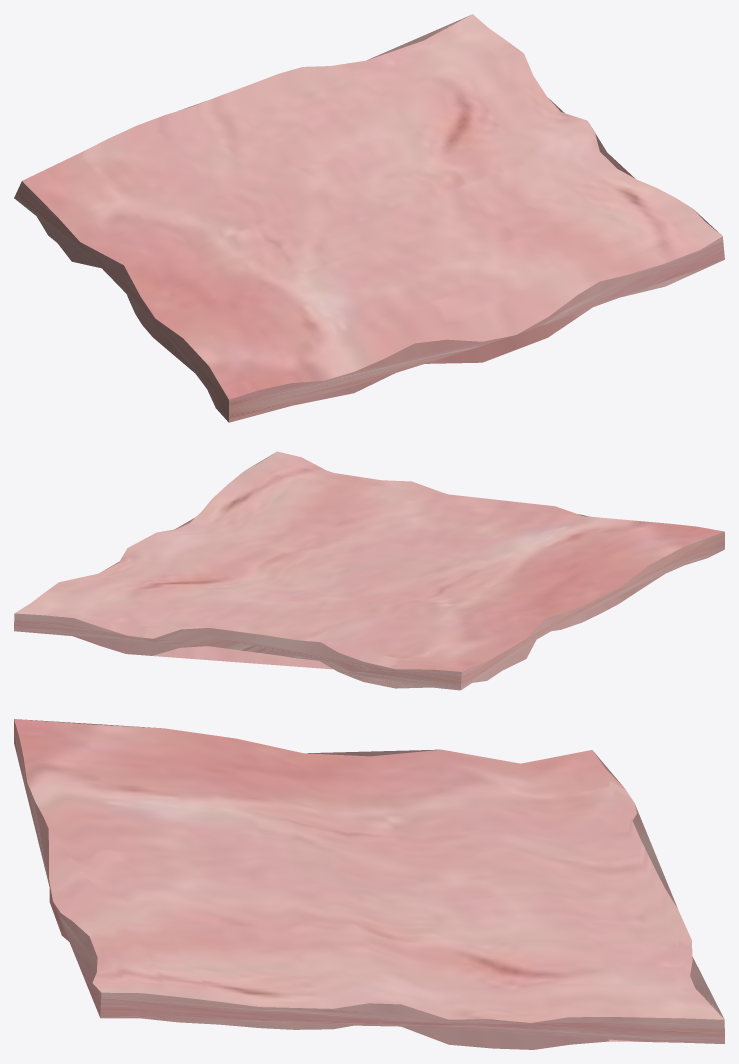
File: ham_los.glb
The picture shows the model from 3 angles, top to bottom: view 1: azimuth 30°, elevation 25°; view 2: azimuth 150°, elevation 25°; view 3: azimuth 270°, elevation 25°; orthographic projection. The views are drawn at different scales.
Parts seen in each view (by area): view 1: Cube; view 2: Cube; view 3: Cube.
Boxes of the visible parts, x1=… form: Cube: x1=14, y1=14, x2=724, y2=422; Cube: x1=14, y1=451, x2=724, y2=690; Cube: x1=14, y1=719, x2=724, y2=1049.
Bounding box in the file's own units: 0.1612 × 0.0151 × 0.1617.
1 material, 1 textured.
